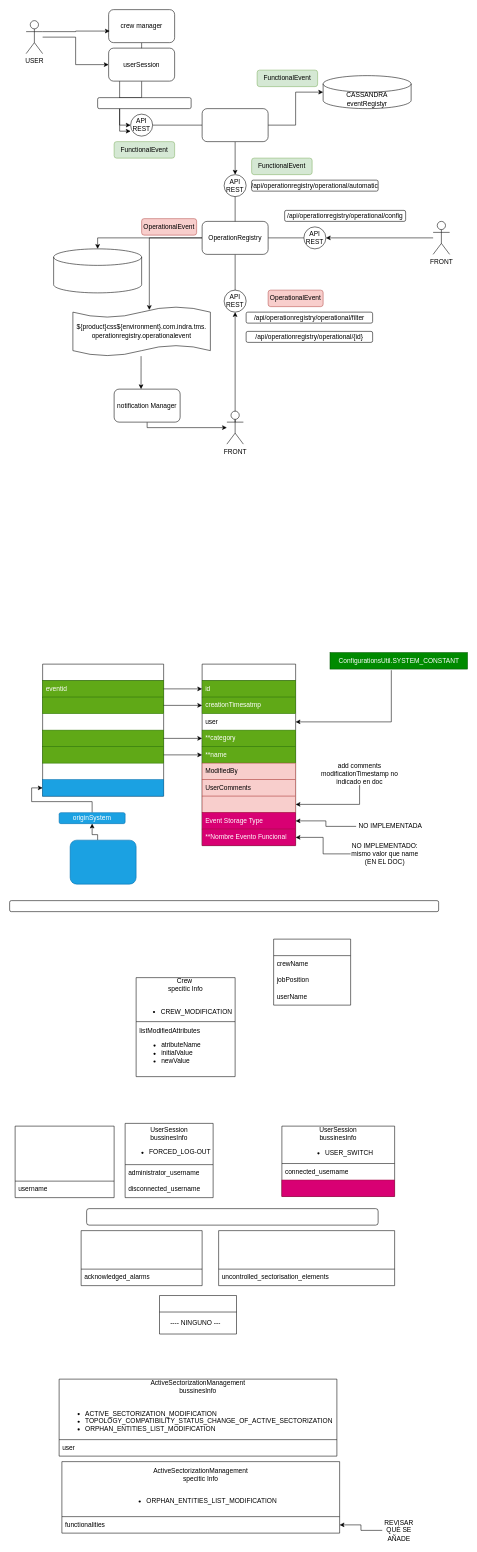
Image size: 477x1552. Some labels were removed from this diagram. The shapes that lost their labels are listed below. From the top down, each one's box as (x1, y1, x2, y2) in pixels, then its label:
(97, 97, 191, 109): /api/eventregistry/functional
(202, 108, 268, 142): EventRegistry
(53, 248, 142, 293): op_reg_operational_event
(42, 697, 164, 714): creationDataTime
(42, 664, 164, 796): Functional Event
(42, 730, 164, 747): cagetory
(42, 746, 164, 763): name
(202, 664, 296, 846): Operational Event
(42, 779, 164, 796): type
(202, 796, 296, 813): ModificationTimestamp
(70, 840, 136, 884): CSS TMM CTC ARS ANS
(9, 900, 439, 912): FROM Functional event:::: additional info
(273, 939, 351, 1005): Crew bussinesInfo
(15, 1126, 114, 1198): UserSession bussinesInfo LOG-IN LOG-OUT INACTIVITY_LOG-OUT
(281, 1179, 395, 1197): Disconnected username
(86, 1208, 378, 1225): LOG-OUT INACTIVITY_LOG-OUT FORCED_LOG-OUT
(81, 1230, 202, 1286): UserSession bussinesInfo ACKNOWLEDGED_ALARMS
(218, 1230, 395, 1286): UserSession bussinesInfo UNCONTROLLED_SECTORISATION_ELEMENTS
(159, 1295, 237, 1334): UserSession specitic Info
